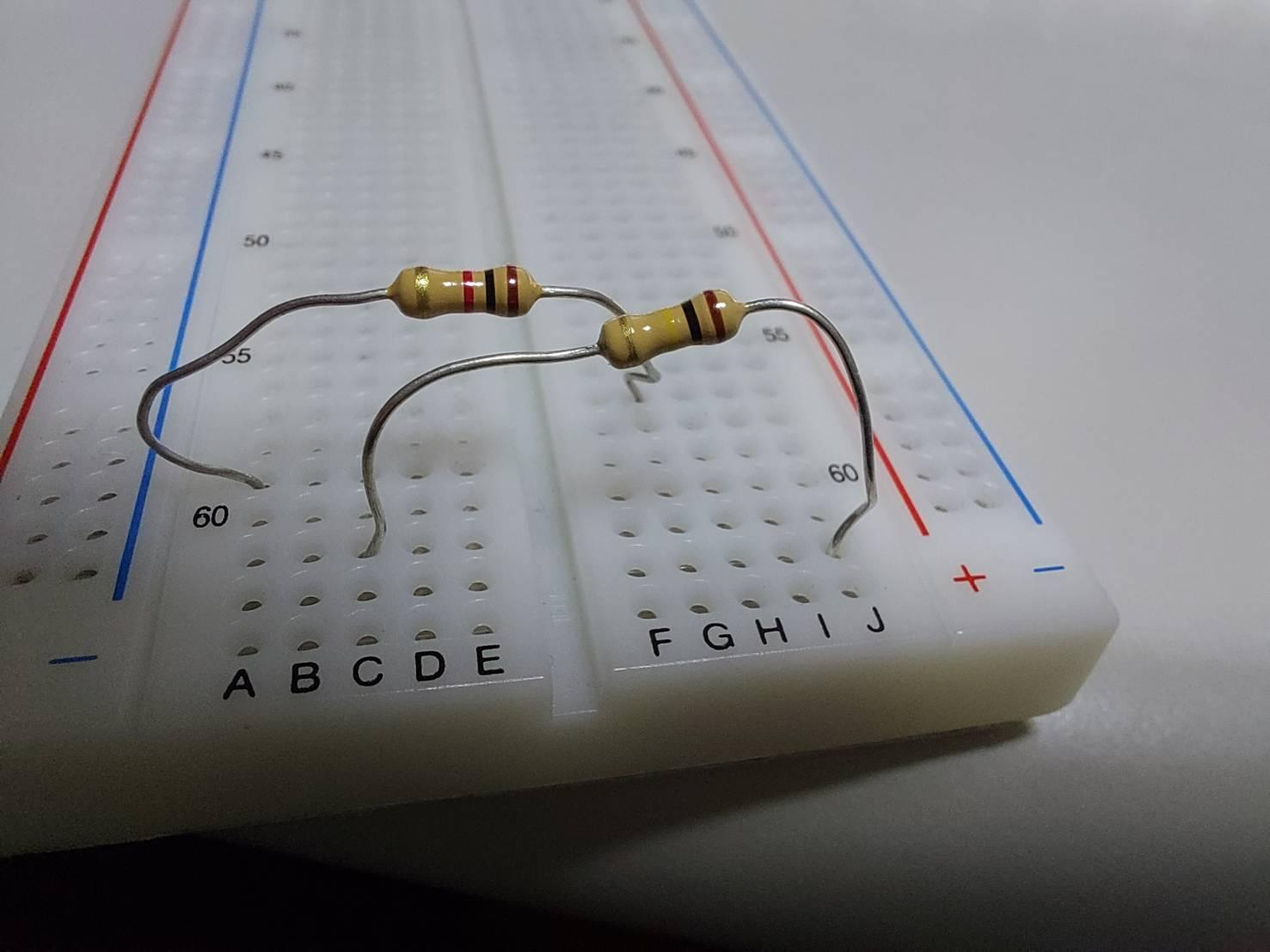resistor: (589, 290, 763, 366), (389, 257, 543, 323)
